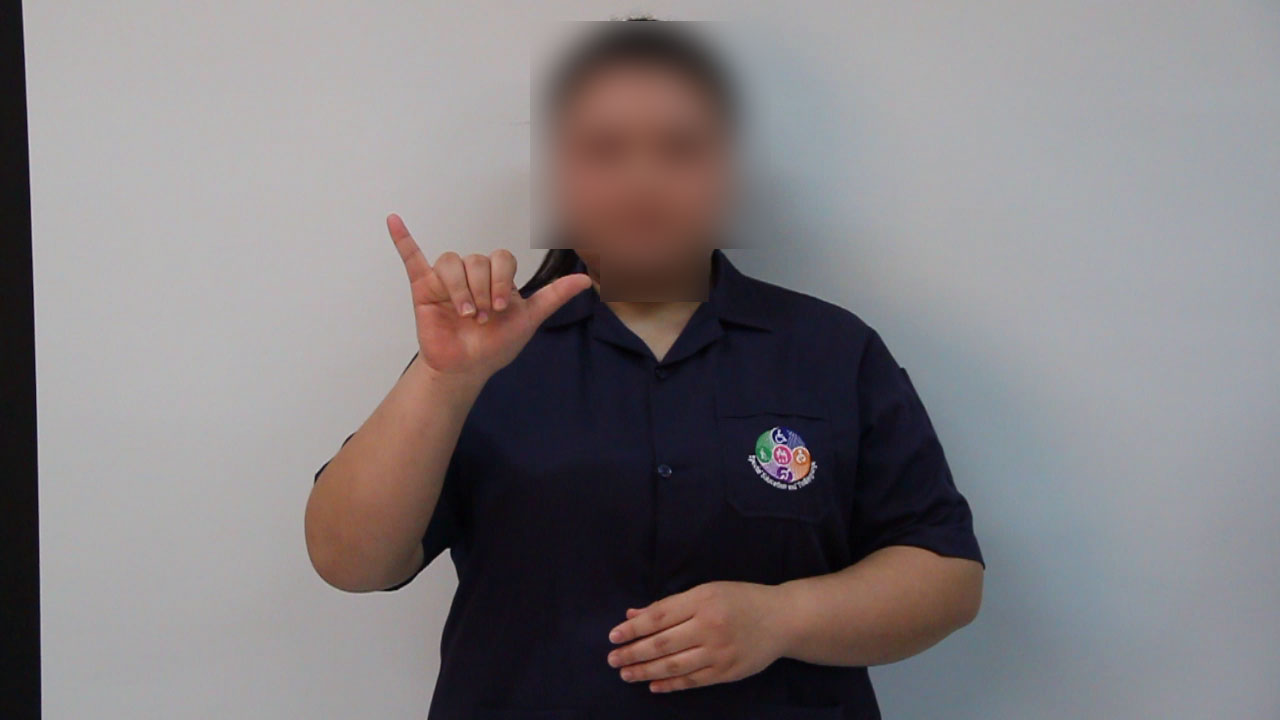yor: (372, 202, 603, 394)
